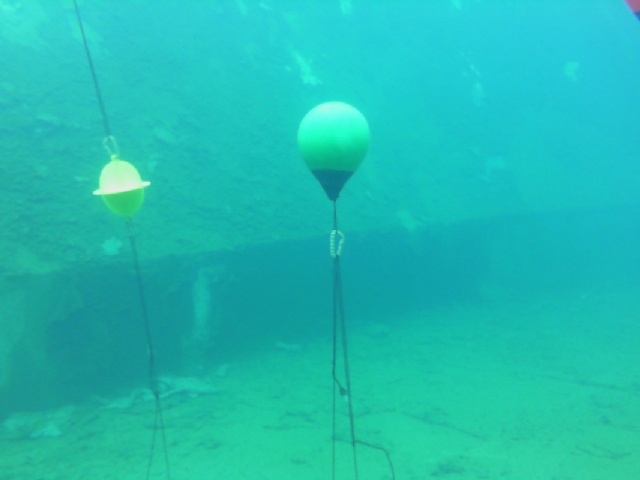buoy_green: (294, 97, 374, 199)
buoy_yellow: (92, 157, 150, 219)
